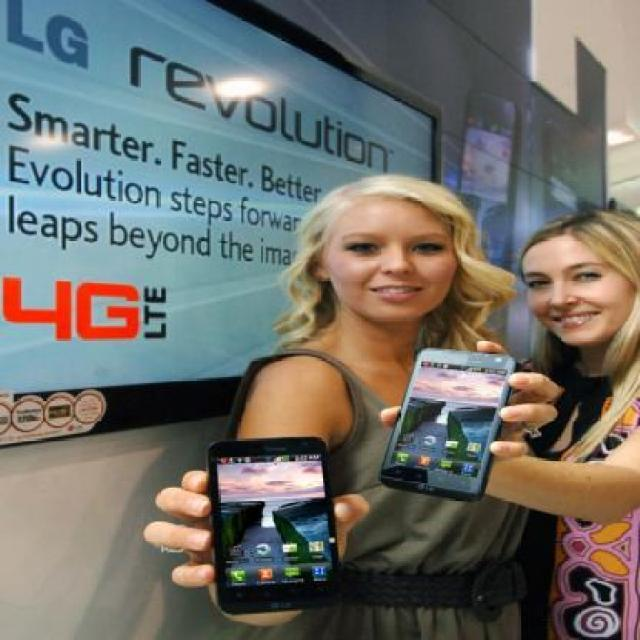phone: (209, 435, 346, 619), (378, 350, 518, 504), (464, 92, 516, 269)
